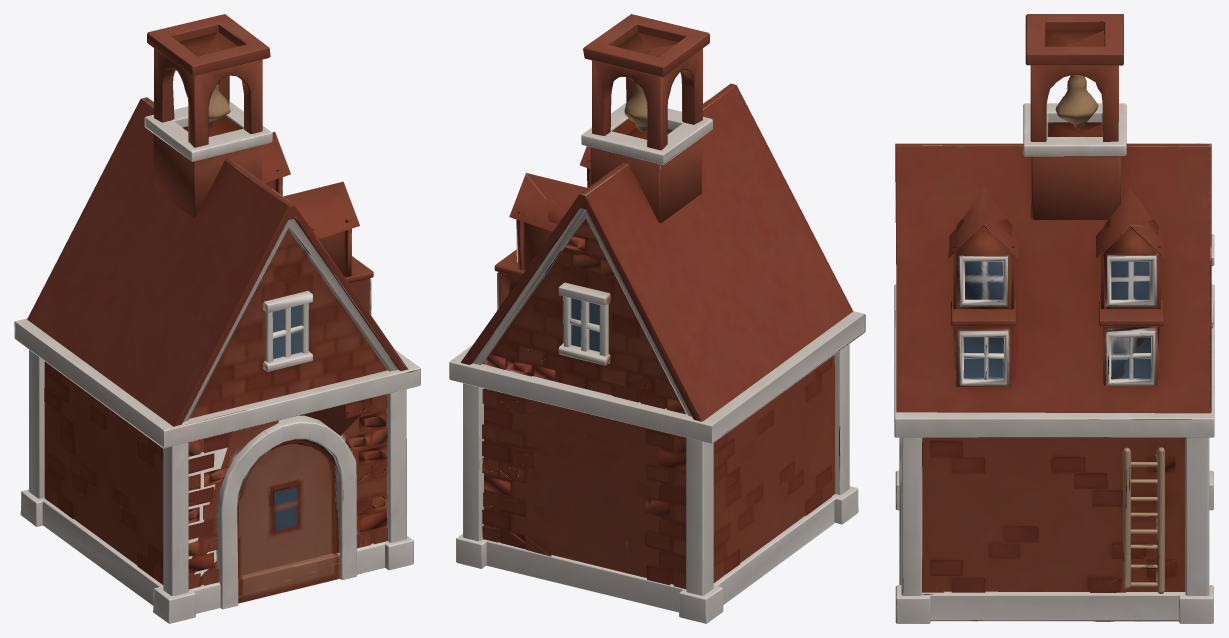
File: 28-fire-station.glb
3 views of the same model, side by side, from view 1: azimuth 30°, elevation 25°; view 2: azimuth 150°, elevation 25°; view 3: azimuth 270°, elevation 25° (orthographic). The views are drawn at different scales.
Parts seen in each view (by area): view 1: geometry_0; view 2: geometry_0; view 3: geometry_0.
Boxes of the visible parts, x1,y1,x2,y2 form: geometry_0: (14,14,420,623); geometry_0: (449,14,865,623); geometry_0: (894,14,1214,623).
Bounding box in the file's own units: 0.5195 × 0.9512 × 0.5234.
Materials: 1 (1 with a texture image).
